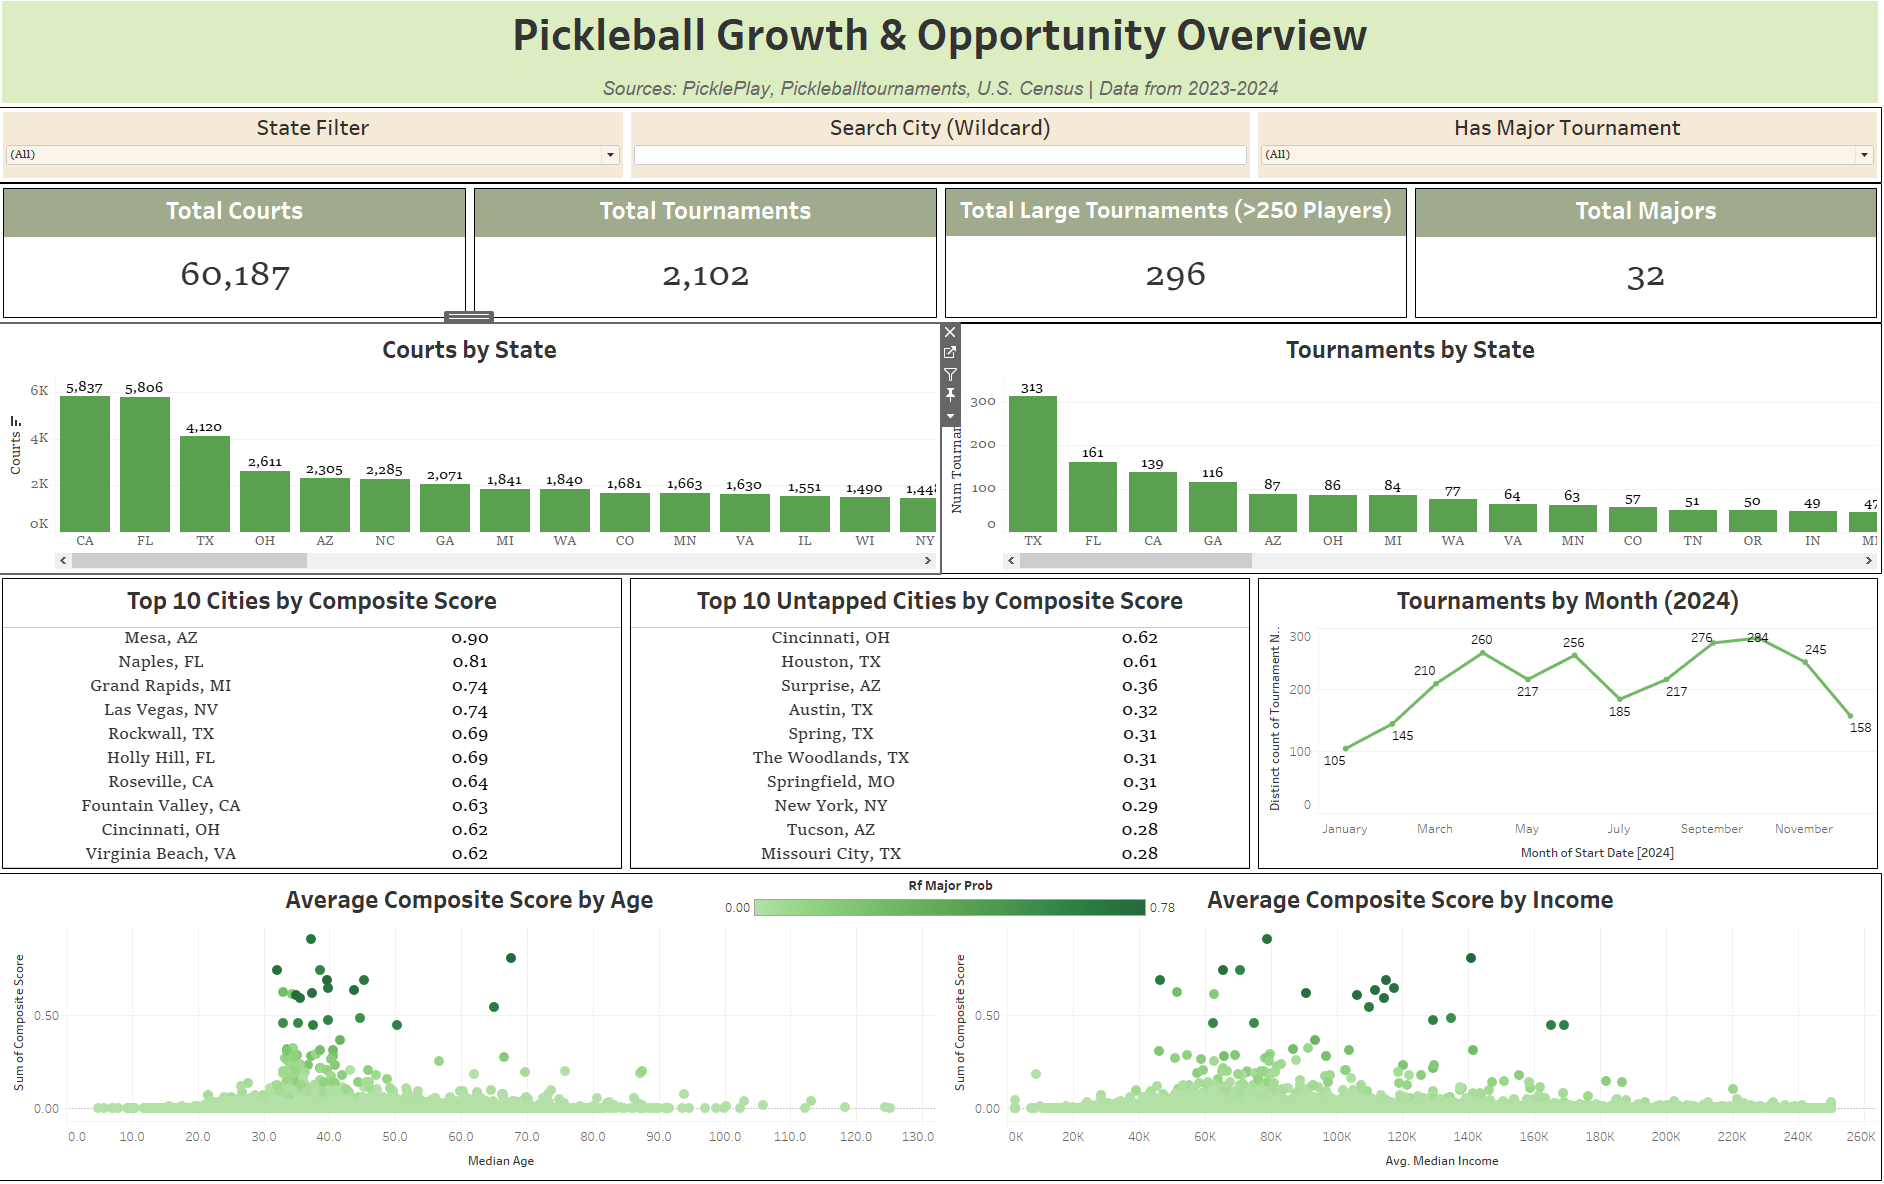

Layout of this report page (visuals, bound fields, positions):
{"tool":"tableau","page":{"name":"Pickleball Growth + Opportunity Overview","canvas":[1900,1200],"ordinal":1},"visuals":[{"type":"text","box":[8,8,1884,110]},{"type":"filter","title":"Total Large Tournaments (>250 Players)","param":"[federated.1uroyys0okk61s14kenbh1t98qae].[none:City State (copy)_227488082528539","box":[9,119,628,74]},{"type":"filter","title":"Total Large Tournaments (>250 Players)","param":"[federated.1uroyys0okk61s14kenbh1t98qae].[none:City State (copy)_227488082528539","box":[637,119,627,74]},{"type":"filter","title":"Total Large Tournaments (>250 Players)","param":"[federated.1uroyys0okk61s14kenbh1t98qae].[none:Calculation_2274880825905684511:n","box":[1264,119,627,74]},{"type":"worksheet","title":"Total Courts","mark":"Automatic","box":[9,195,471,138]},{"type":"worksheet","title":"Total Tournaments","mark":"Automatic","box":[480,195,471,138]},{"type":"worksheet","title":"Total Large Tournaments (>250 Players)","mark":"Automatic","box":[951,195,470,138]},{"type":"worksheet","title":"Total Majors","mark":"Automatic","box":[1421,195,470,138]},{"type":"worksheet","title":"Courts by State","mark":"Automatic","rows":["Courts"],"cols":["City State (copy)_2274880825285398529 - Split 2"],"box":[9,335,941,249]},{"type":"worksheet","title":"Tournaments by State","mark":"Automatic","rows":["num_tournaments"],"cols":["City State (copy)_2274880825285398529 - Split 2"],"box":[950,335,941,249]},{"type":"worksheet","title":"Top Cities","mark":"Automatic","rows":["city_state"],"box":[8,585,628,299]},{"type":"worksheet","title":"Top Untapped Cities","mark":"Automatic","rows":["city_state"],"box":[636,585,628,299]},{"type":"worksheet","title":"Tournaments by Month (2024)","mark":"Automatic","rows":["Tournament Name"],"cols":["Start Date"],"box":[1264,585,628,299]},{"type":"worksheet","title":"Average Composite Score by Age","mark":"Circle","rows":["composite_score"],"cols":["median_age"],"box":[9,885,941,306]},{"type":"worksheet","title":"Average Composite Score by Income","mark":"Circle","rows":["composite_score"],"cols":["median_income"],"box":[950,885,941,306]},{"type":"legend","title":"Average Composite Score by Age","param":"[federated.1uroyys0okk61s14kenbh1t98qae].[sum:rf_major_prob:qk]","box":[731,887,459,41]}]}

Visuals, with their boxes in screenshot pixels (x1, y1, x2, y2), scaled from the page's 1900x1200 canvas onto the 1884x1184 screenshot:
text: 8,8,1876,116
"Total Large Tournaments (>250 Players)" filter: 9,117,632,190
"Total Large Tournaments (>250 Players)" filter: 632,117,1253,190
"Total Large Tournaments (>250 Players)" filter: 1253,117,1875,190
"Total Courts" worksheet: 9,192,476,329
"Total Tournaments" worksheet: 476,192,943,329
"Total Large Tournaments (>250 Players)" worksheet: 943,192,1409,329
"Total Majors" worksheet: 1409,192,1875,329
"Courts by State" worksheet: 9,331,942,576
"Tournaments by State" worksheet: 942,331,1875,576
"Top Cities" worksheet: 8,577,631,872
"Top Untapped Cities" worksheet: 631,577,1253,872
"Tournaments by Month (2024)" worksheet: 1253,577,1876,872
"Average Composite Score by Age" worksheet (Circle marks): 9,873,942,1175
"Average Composite Score by Income" worksheet (Circle marks): 942,873,1875,1175
"Average Composite Score by Age" legend: 725,875,1180,916
